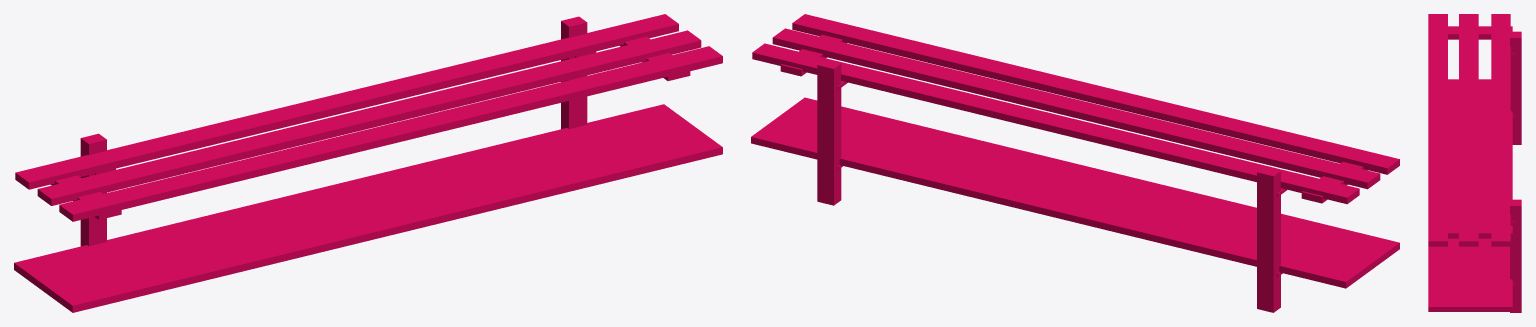
The model's file is Kitchen_Shelf_01_Lod0.fbx.
The picture shows the model from 3 angles, left to right: view 1: azimuth 30°, elevation 25°; view 2: azimuth 150°, elevation 25°; view 3: azimuth 270°, elevation 25°; orthographic projection. The views are drawn at different scales.
Parts seen in each view (by area): view 1: Kitchen_Shelf_01_Lod0; view 2: Kitchen_Shelf_01_Lod0; view 3: Kitchen_Shelf_01_Lod0.
Part boxes in pixels (left/top/right/bottom): Kitchen_Shelf_01_Lod0: left=14, top=14, right=722, bottom=312; Kitchen_Shelf_01_Lod0: left=751, top=14, right=1399, bottom=312; Kitchen_Shelf_01_Lod0: left=1428, top=14, right=1521, bottom=312.
Size of the model in its own units: 154 by 33.8 by 26.75.
